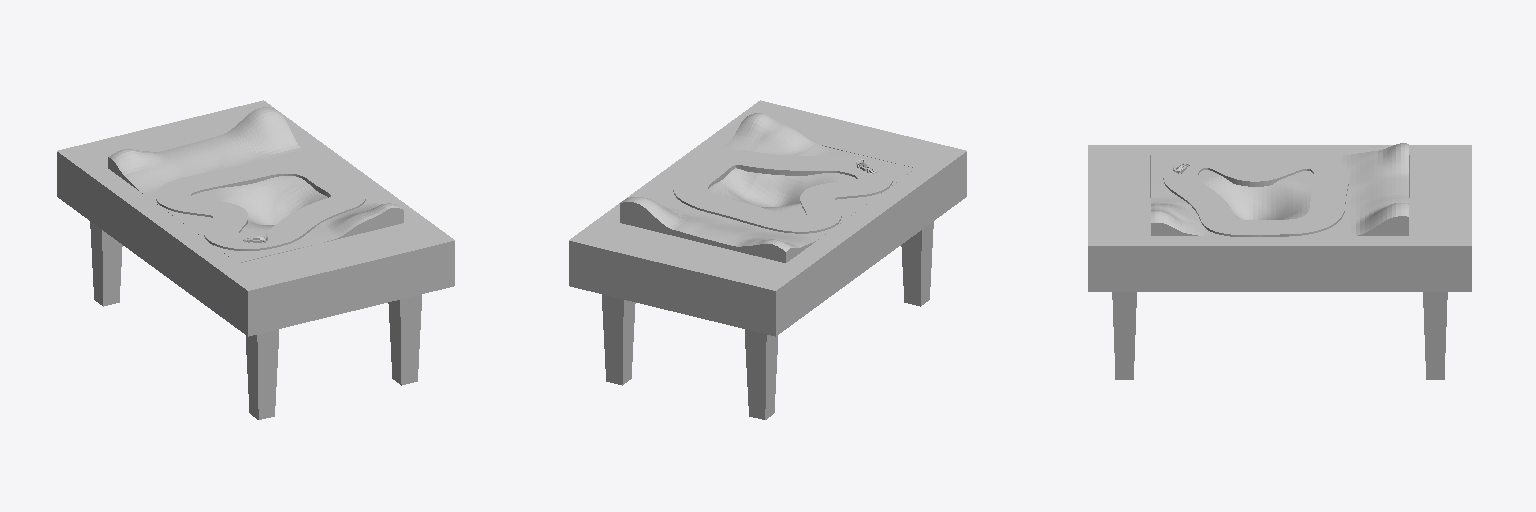
Rendered from NewestTisch60.obj.
3 views of the same model, side by side, from view 1: azimuth 30°, elevation 25°; view 2: azimuth 150°, elevation 25°; view 3: azimuth 270°, elevation 25° (orthographic).
Parts seen in each view (by area): view 1: Tischplatte_wood_table_001, Landschaft_aerial_grass_rock, off, Bein1_wood_table_001, Bein4_wood_table_001.003, Bein3_wood_table_001.002; view 2: Tischplatte_wood_table_001, Landschaft_aerial_grass_rock, off, Bein2_wood_table_001.001, Bein3_wood_table_001.002, Bein4_wood_table_001.003; view 3: Tischplatte_wood_table_001, Landschaft_aerial_grass_rock, off, Bein1_wood_table_001, Bein2_wood_table_001.001.
Boxes of the visible parts, <box> form: Tischplatte_wood_table_001: <box>57,100,454,336</box>; Landschaft_aerial_grass_rock: <box>108,107,403,262</box>; off: <box>156,159,365,250</box>; Bein1_wood_table_001: <box>388,294,421,385</box>; Bein4_wood_table_001.003: <box>246,329,278,419</box>; Bein3_wood_table_001.002: <box>90,221,122,306</box>; Tischplatte_wood_table_001: <box>569,100,966,336</box>; Landschaft_aerial_grass_rock: <box>620,113,915,262</box>; off: <box>673,150,892,233</box>; Bein2_wood_table_001.001: <box>602,294,635,385</box>; Bein3_wood_table_001.002: <box>745,329,777,419</box>; Bein4_wood_table_001.003: <box>901,221,933,306</box>; Tischplatte_wood_table_001: <box>1088,145,1471,291</box>; Landschaft_aerial_grass_rock: <box>1151,143,1408,235</box>; off: <box>1163,153,1348,236</box>; Bein1_wood_table_001: <box>1112,292,1136,379</box>; Bein2_wood_table_001.001: <box>1423,292,1447,379</box>.
Size of the model in its own units: 5 by 3.91 by 8.